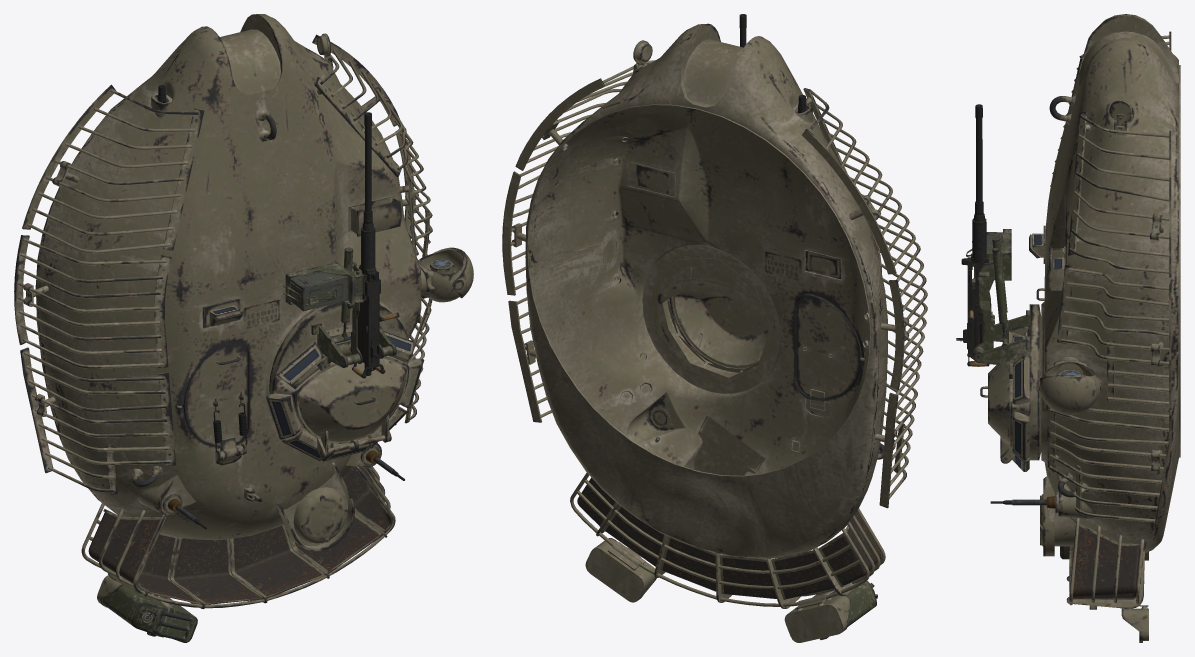
File: Turret_01.glb
3 views of the same model, side by side, from view 1: azimuth 30°, elevation 25°; view 2: azimuth 150°, elevation 25°; view 3: azimuth 270°, elevation 25° (orthographic).
Parts seen in each view (by area): view 1: set_0_group_0; view 2: set_0_group_0; view 3: set_0_group_0.
Boxes of the visible parts, left/top/right/bottom form: set_0_group_0: left=14, top=14, right=473, bottom=642; set_0_group_0: left=502, top=14, right=927, bottom=642; set_0_group_0: left=956, top=14, right=1180, bottom=642.
Size of the model in its own units: 2.68 by 3.67 by 1.31.
Materials: 1 (1 with a texture image).
